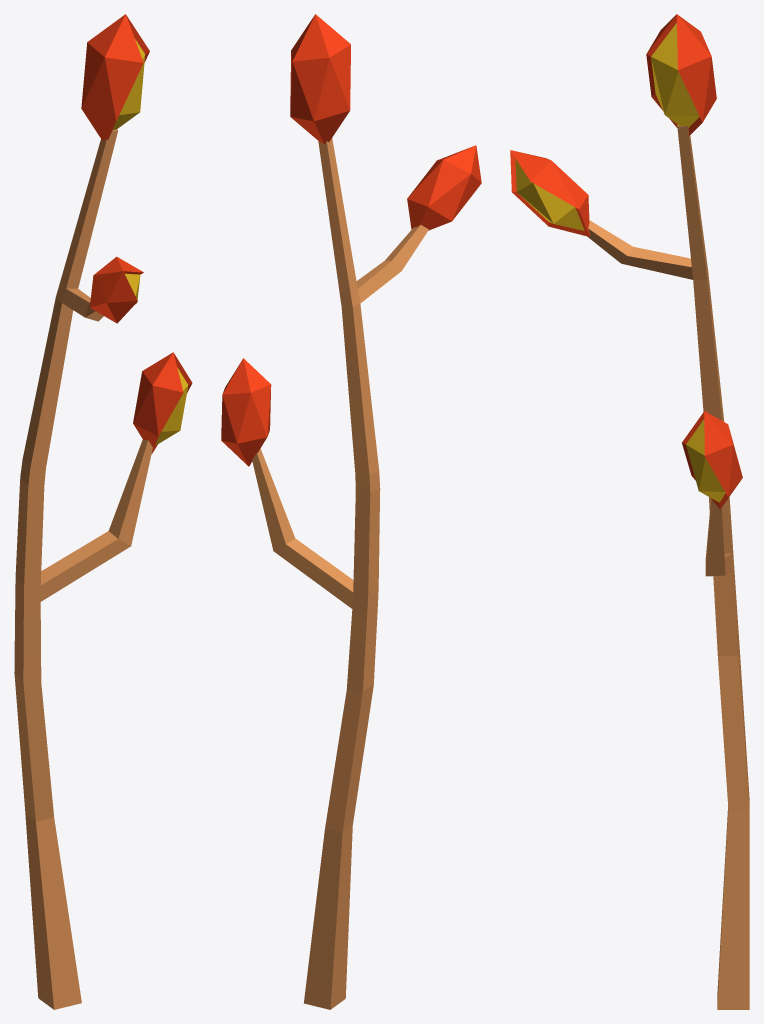
The model's file is Plant_05.fbx.
3 views of the same model, side by side, from view 1: azimuth 30°, elevation 25°; view 2: azimuth 150°, elevation 25°; view 3: azimuth 270°, elevation 25° (orthographic). The views are drawn at different scales.
Parts seen in each view (by area): view 1: Plant_05; view 2: Plant_05; view 3: Plant_05.
Boxes of the visible parts, <box> form: Plant_05: <box>14,14,192,1009</box>; Plant_05: <box>221,14,481,1009</box>; Plant_05: <box>510,14,749,1009</box>.
Size of the model in its own units: 26.47 by 142 by 30.62.
